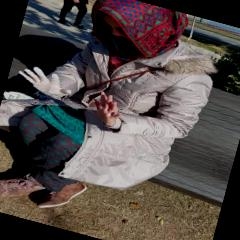gloved: (13, 62, 75, 102)
not-gloved: (86, 90, 126, 128)
